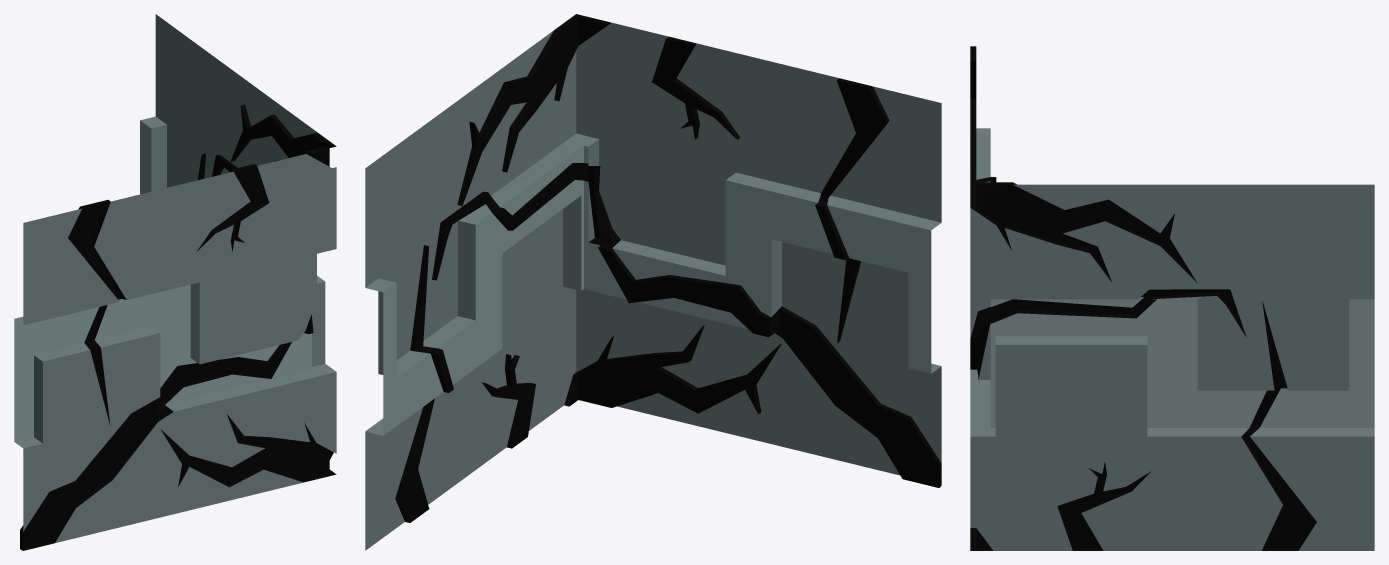
File: CrackedBedrock.fbx
3 views of the same model, side by side, from view 1: azimuth 30°, elevation 25°; view 2: azimuth 150°, elevation 25°; view 3: azimuth 270°, elevation 25° (orthographic). The views are drawn at different scales.
Parts seen in each view (by area): view 1: Bedrock Corner R; view 2: Bedrock Corner R; view 3: Bedrock Corner R.
Boxes of the visible parts, x1,y1,x2,y2 form: Bedrock Corner R: (14,14,336,550); Bedrock Corner R: (365,14,941,550); Bedrock Corner R: (970,46,1374,550).
Bounding box in the file's own units: 1 × 1 × 1.
